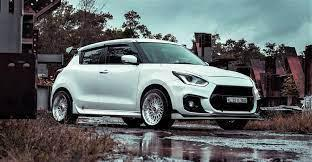Hatchback: (45, 36, 261, 129)
